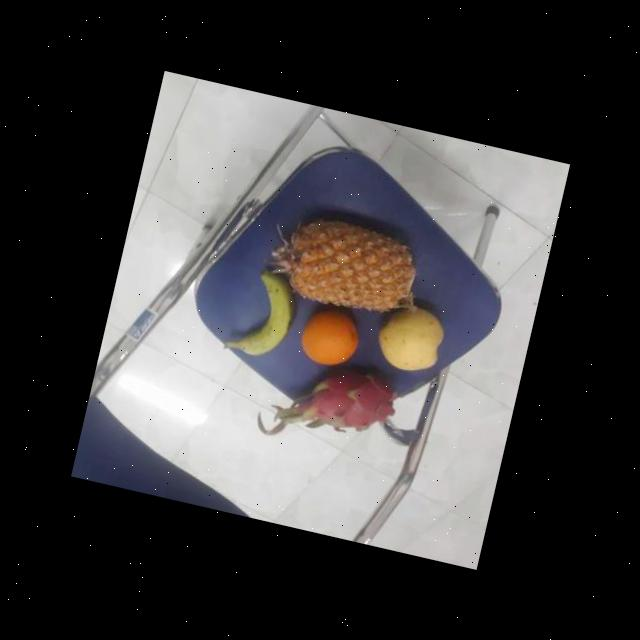orange: (292, 300, 367, 372)
pear: (370, 299, 450, 378)
pineapple: (272, 206, 424, 323)
pitaya: (292, 356, 398, 440)
